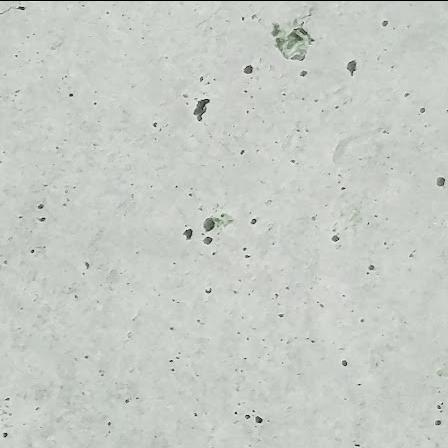hole: (190, 94, 212, 122), (243, 63, 254, 73)
spalling: (261, 7, 325, 72)
